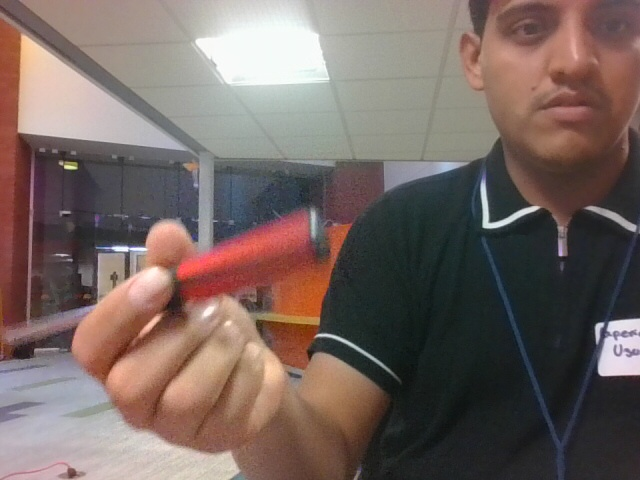destornillador: (164, 206, 333, 312)
